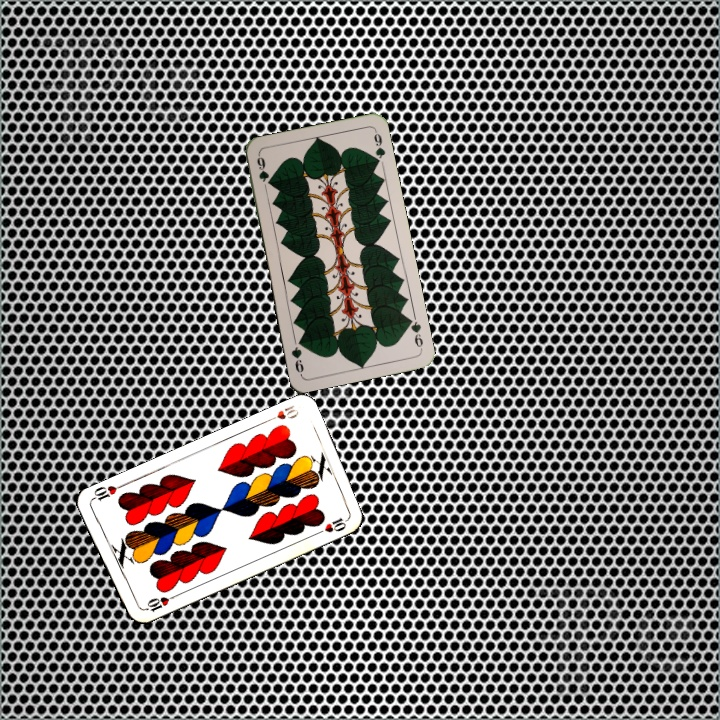G9: (403, 313, 426, 352), (253, 151, 271, 192)
H10: (262, 401, 302, 425), (139, 591, 178, 615)
